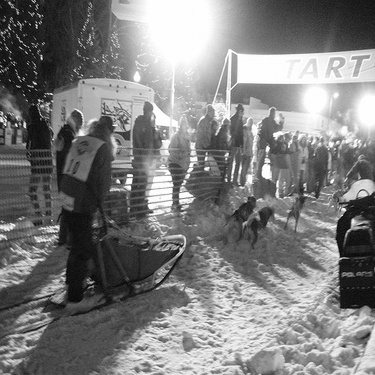dog: (220, 191, 256, 246), (243, 204, 276, 249), (284, 190, 309, 237), (323, 181, 351, 214)
